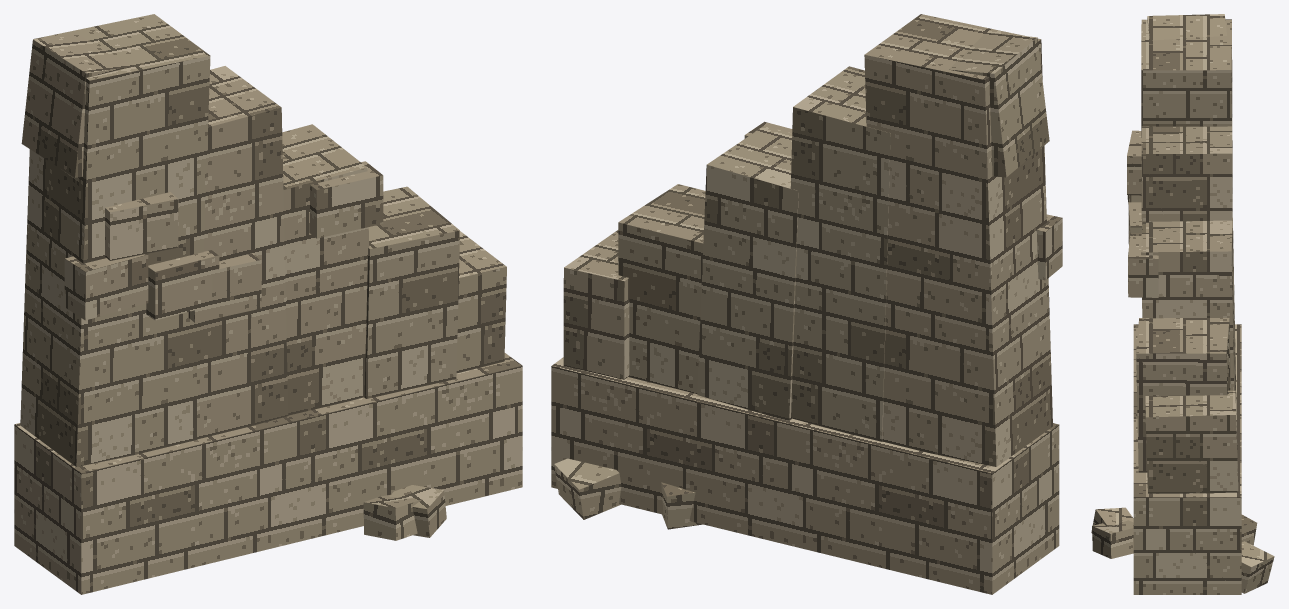
The model's file is abbey_wall_broken.glb.
3 renders of one model, left to right at view 1: azimuth 30°, elevation 25°; view 2: azimuth 150°, elevation 25°; view 3: azimuth 270°, elevation 25°, orthographic. The views are drawn at different scales.
Visible parts, largest first — view 1: base_course, course_0, course_1, course_2, course_3, tooth, course_4, face_block_1, face_block_4, face_block_0, face_block_2, face_block_3 (+2 smaller); view 2: course_0, base_course, course_1, course_2, course_3, tooth, course_4, rubble_1, face_block_1, rubble_5; view 3: base_course, course_4, course_2, course_1, course_0, course_3, tooth, face_block_4, rubble_0, rubble_1, face_block_0, rubble_4 (+2 smaller).
Boxes of the visible parts, x1,y1,x2,y2 form: base_course: [14, 353, 522, 594]; course_0: [20, 14, 210, 466]; course_1: [197, 66, 288, 439]; course_2: [282, 124, 369, 415]; course_3: [364, 186, 459, 398]; tooth: [21, 33, 133, 177]; course_4: [456, 231, 506, 373]; face_block_1: [64, 254, 148, 320]; face_block_4: [309, 161, 383, 238]; face_block_0: [105, 192, 178, 260]; face_block_2: [146, 250, 219, 320]; face_block_3: [188, 253, 261, 322]; course_0: [864, 14, 1052, 466]; base_course: [551, 357, 1059, 594]; course_1: [790, 66, 890, 441]; course_2: [697, 125, 798, 420]; course_3: [618, 184, 705, 393]; tooth: [949, 32, 1049, 177]; course_4: [563, 230, 629, 379]; rubble_1: [554, 458, 621, 519]; face_block_1: [1036, 214, 1062, 280]; rubble_5: [661, 482, 702, 529]; base_course: [1133, 324, 1241, 594]; course_4: [1145, 390, 1238, 493]; course_2: [1141, 218, 1236, 409]; course_1: [1141, 118, 1232, 221]; course_0: [1141, 19, 1232, 224]; course_3: [1136, 318, 1230, 472]; tooth: [1147, 14, 1227, 40]; face_block_4: [1128, 233, 1158, 297]; rubble_0: [1092, 520, 1133, 558]; rubble_1: [1241, 541, 1274, 593]; face_block_0: [1127, 130, 1141, 195]; rubble_4: [1091, 507, 1133, 533].
Size of what is drawn, in the model's own units: 1.91 by 2.14 by 0.8505.
1 material, 1 textured.
